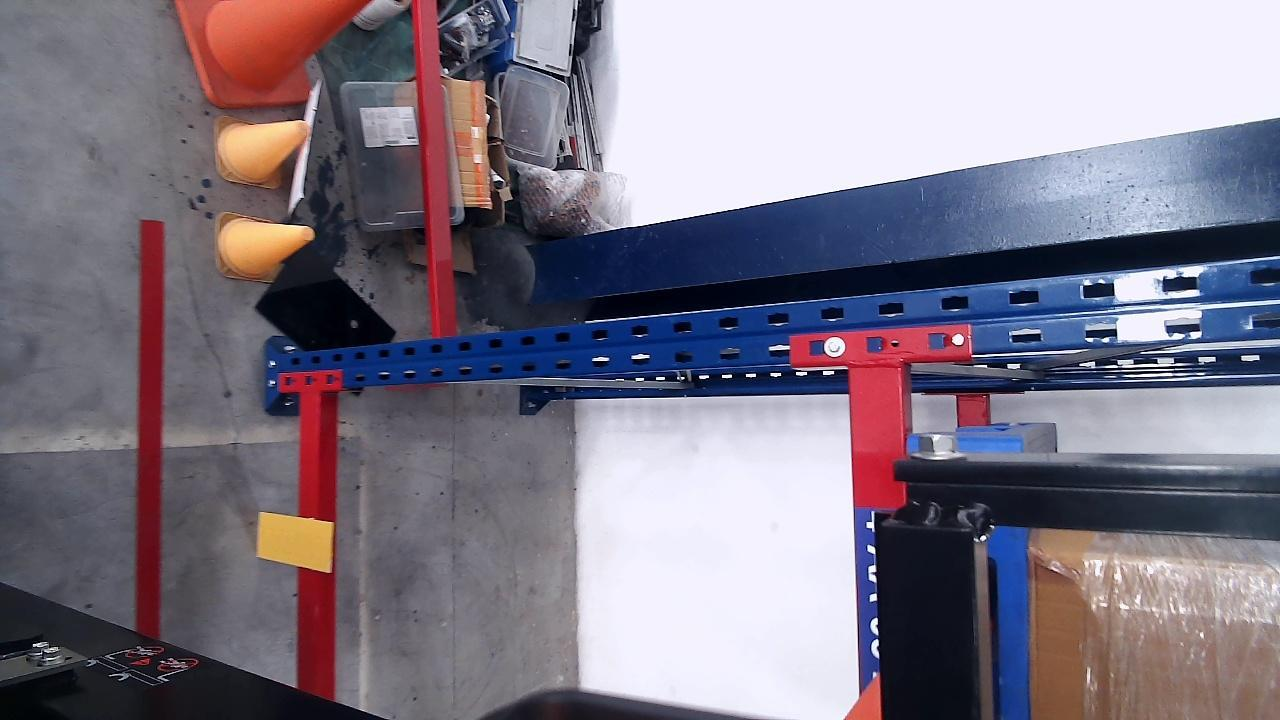h_rack: (297, 392, 318, 696)
orange_strip: (259, 511, 334, 576)
red_line: (137, 219, 163, 643)
